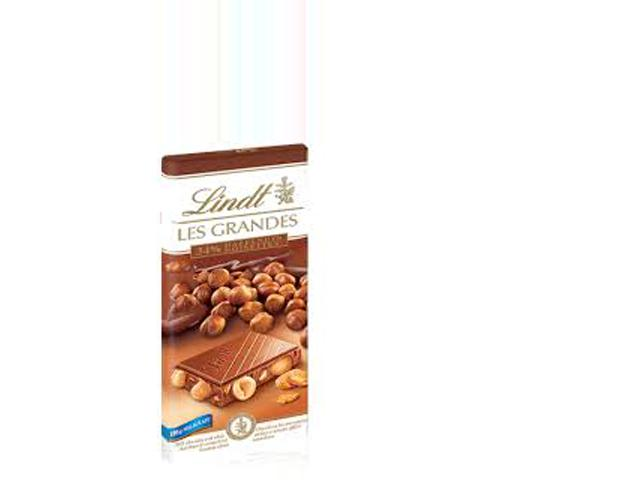chocolate: (150, 153, 331, 444)
